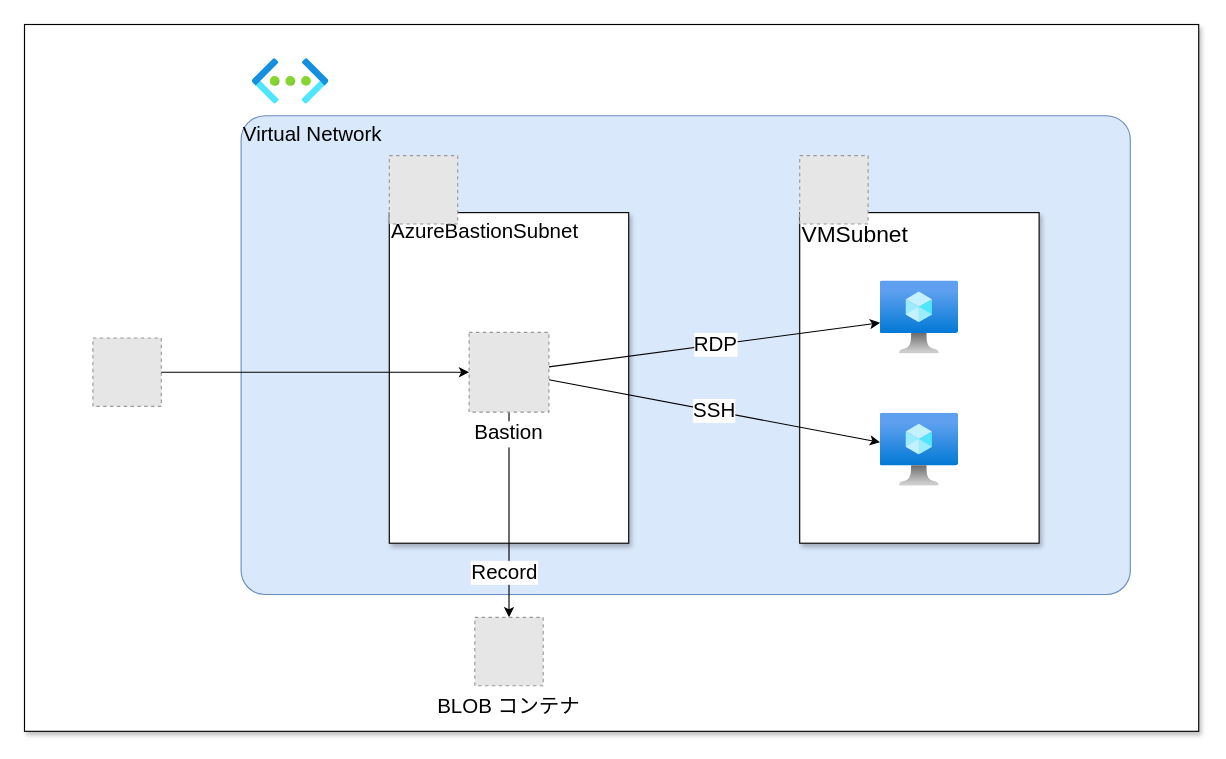
Image size: 1226x759. Some labels were removed from this diagram. Grey dashed boxes stand in for pictures. The shapes that lost their labels are listed below. From the top down, each one's centre as x and y in pixels, then its label:
At [919,316]: "Windows".
At [919,449]: "Linux".
